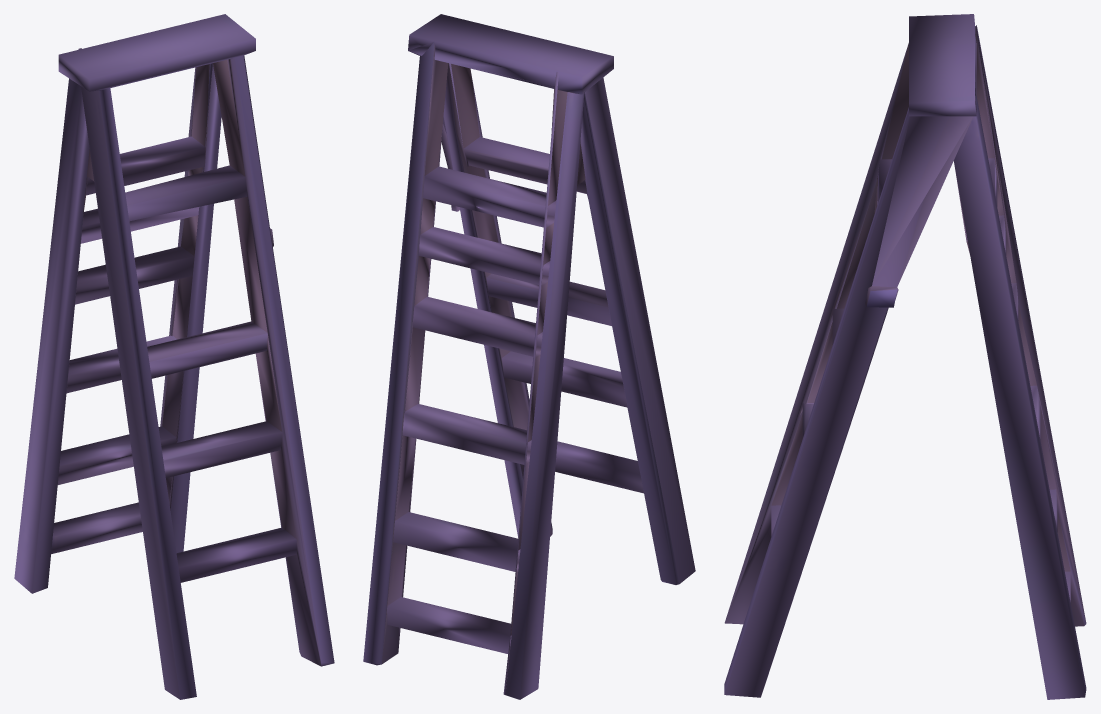
The model's file is model.progressive.glb.
The picture shows the model from 3 angles, left to right: view 1: azimuth 30°, elevation 25°; view 2: azimuth 150°, elevation 25°; view 3: azimuth 270°, elevation 25°; orthographic projection. The views are drawn at different scales.
Visible parts, largest first — view 1: material; view 2: material; view 3: material.
Boxes of the visible parts, x1,y1,x2,y2 form: material: [14, 14, 334, 699]; material: [363, 14, 695, 699]; material: [724, 14, 1086, 699].
Bounding box in the file's own units: 0.5838 × 1.9 × 1.03.
1 material, 1 textured.
